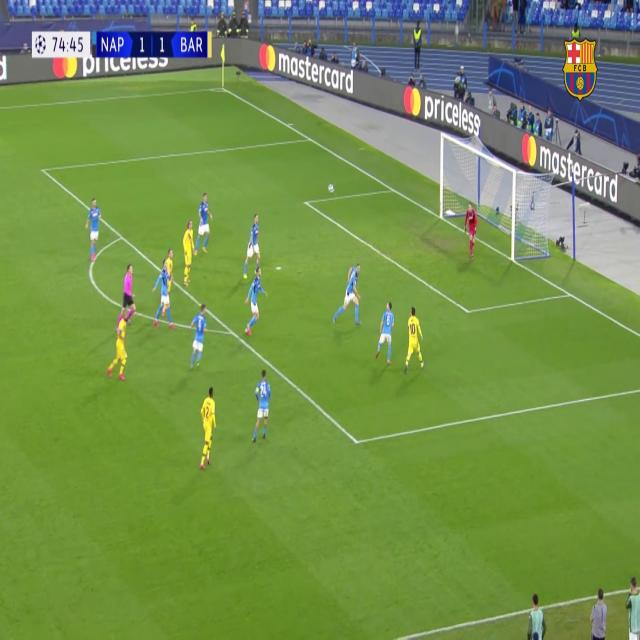Ball: (326, 182, 336, 196)
GoalKeeper: (457, 202, 481, 273)
TEAM 1: (107, 308, 132, 380), (198, 386, 218, 470), (404, 301, 426, 376), (182, 215, 196, 288), (165, 247, 177, 298)
TEAM 2: (333, 255, 363, 333), (242, 265, 267, 338), (254, 366, 274, 446), (374, 295, 396, 366), (152, 258, 174, 328), (187, 304, 210, 368), (244, 203, 263, 279), (197, 190, 214, 258), (84, 197, 102, 260)
